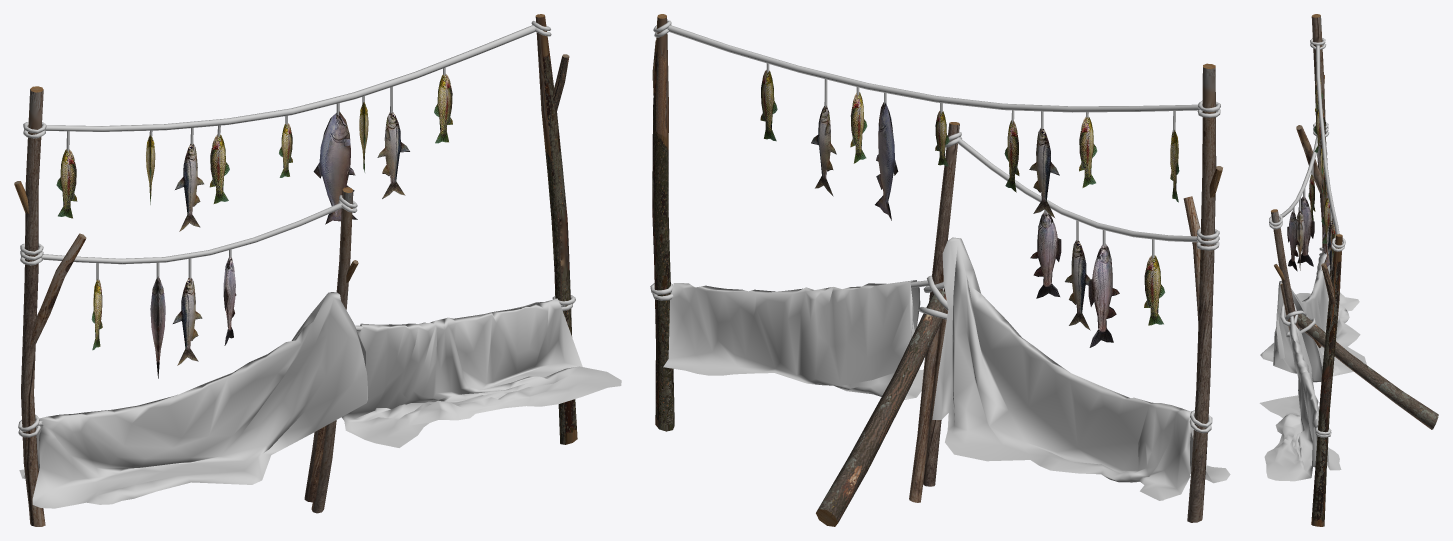
The model's file is village_fishing_gear_01.fbx.
The picture shows the model from 3 angles, left to right: view 1: azimuth 30°, elevation 25°; view 2: azimuth 150°, elevation 25°; view 3: azimuth 270°, elevation 25°; orthographic projection. The views are drawn at different scales.
Parts seen in each view (by area): view 1: village_fishing_gear_01; view 2: village_fishing_gear_01; view 3: village_fishing_gear_01.
Part boxes in pixels (x1,y1,x2,y2): village_fishing_gear_01: [14, 14, 621, 526]; village_fishing_gear_01: [650, 14, 1230, 526]; village_fishing_gear_01: [1259, 14, 1438, 526].
Bounding box in the file's own units: 422 × 348 × 167.
